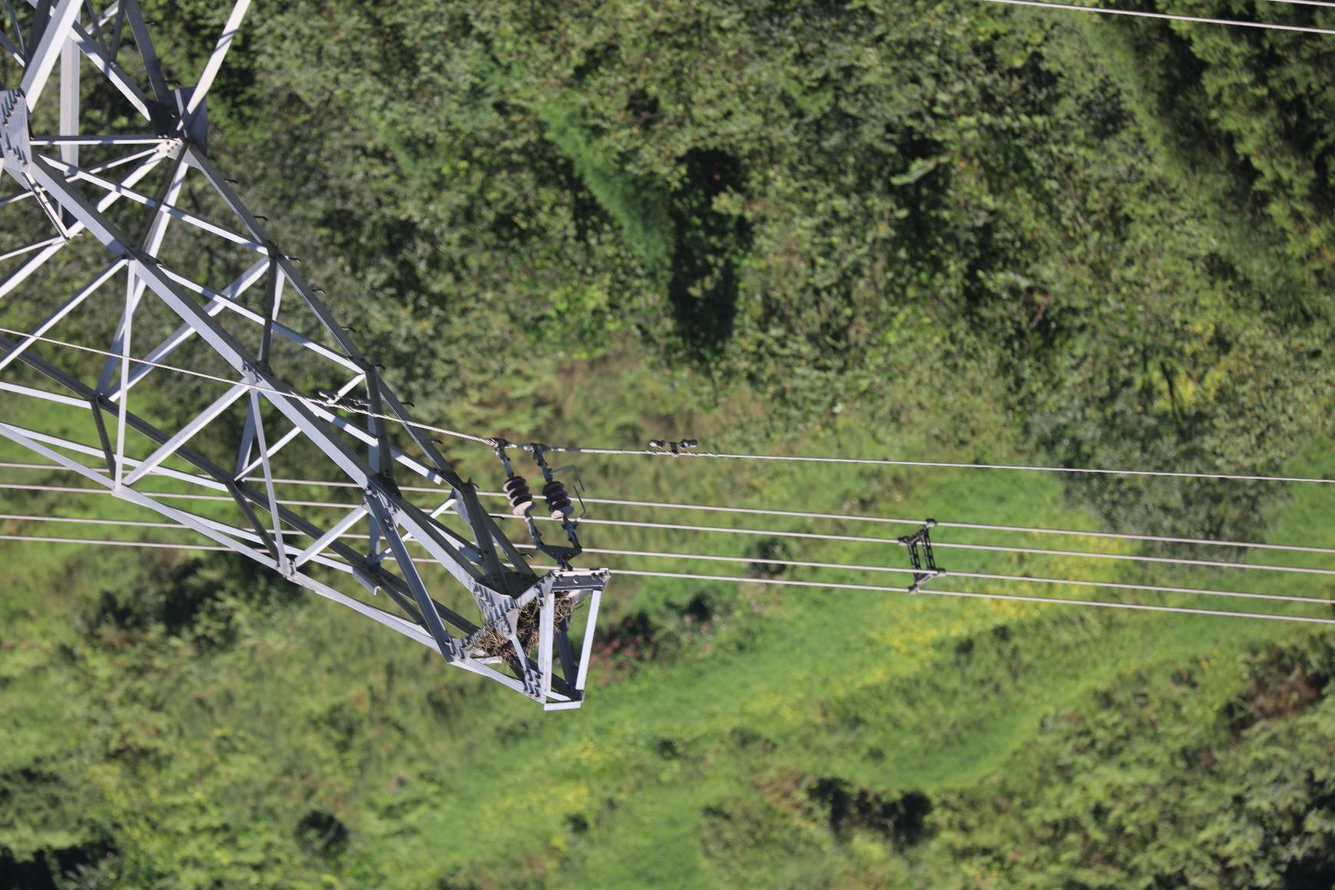damper: (315, 387, 374, 417), (646, 437, 700, 460)
nest: (473, 593, 576, 664)
